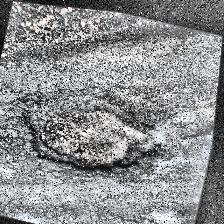pothole: (34, 94, 152, 182)
